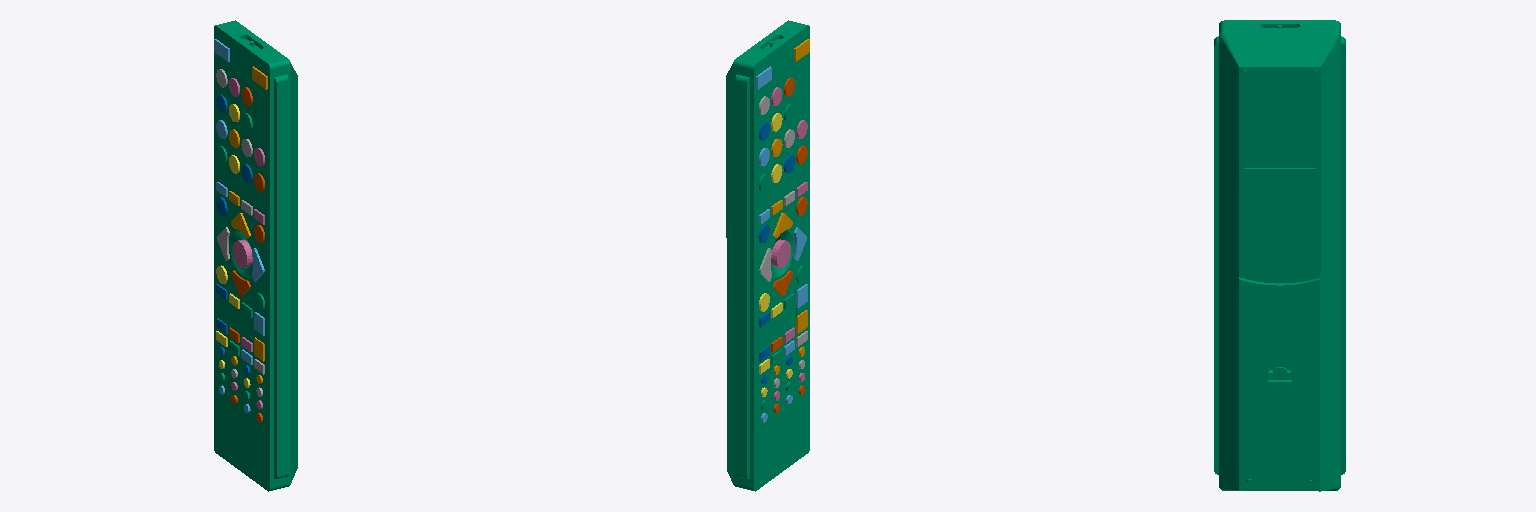
--- Render facts (derived) ---
3 views of the same robot in one strip: view 1: azimuth 30°, elevation 25°; view 2: azimuth 150°, elevation 25°; view 3: azimuth 270°, elevation 25° (orthographic).
Robot: partnet_61c6c6a47e5b9d34496c7671bf276db5 — 59 links, 58 joints (57 prismatic, 1 fixed); root link base; default pose: all joints at 0.
Links seen in each view (by area): view 1: link_57; view 2: link_57; view 3: link_57.
Boxes of the visible links, x1,y1,x2,y2 form: link_57: [214, 20, 297, 491]; link_57: [726, 20, 809, 491]; link_57: [1214, 20, 1345, 491].
Bounding box of the posed robot: 0.19 × 0.4939 × 1.9 m (x, y, z).
Meshes: 65 distinct files referenced, 65 mesh visuals loaded (65 OBJ).

robot.urdf — partnet_61c6c6a47e5b9d34496c7671bf276db5:
<?xml version="1.0" ?>
<robot name="partnet_61c6c6a47e5b9d34496c7671bf276db5">
	<link name="base"/>
	<link name="link_0">
		<visual name="button-1">
			<origin xyz="0 0 0"/>
			<geometry>
				<mesh filename="textured_objs/original-16.obj"/>
			</geometry>
		</visual>
		<collision>
			<origin xyz="0 0 0"/>
			<geometry>
				<mesh filename="textured_objs/original-16.obj"/>
			</geometry>
		</collision>
	</link>
	<joint name="joint_0" type="prismatic">
		<origin xyz="0 0 0"/>
		<axis xyz="0 0 -1"/>
		<child link="link_0"/>
		<parent link="link_57"/>
		<limit lower="0" upper="0.005"/>
	</joint>
	<link name="link_1">
		<visual name="button-2">
			<origin xyz="0 0 0"/>
			<geometry>
				<mesh filename="textured_objs/original-17.obj"/>
			</geometry>
		</visual>
		<collision>
			<origin xyz="0 0 0"/>
			<geometry>
				<mesh filename="textured_objs/original-17.obj"/>
			</geometry>
		</collision>
	</link>
	<joint name="joint_1" type="prismatic">
		<origin xyz="0 0 0"/>
		<axis xyz="0 0 -1"/>
		<child link="link_1"/>
		<parent link="link_57"/>
		<limit lower="0" upper="0.005"/>
	</joint>
	<link name="link_2">
		<visual name="button-3">
			<origin xyz="0 0 0"/>
			<geometry>
				<mesh filename="textured_objs/original-12.obj"/>
			</geometry>
		</visual>
		<collision>
			<origin xyz="0 0 0"/>
			<geometry>
				<mesh filename="textured_objs/original-12.obj"/>
			</geometry>
		</collision>
	</link>
	<joint name="joint_2" type="prismatic">
		<origin xyz="0 0 0"/>
		<axis xyz="0 0 -1"/>
		<child link="link_2"/>
		<parent link="link_57"/>
		<limit lower="0" upper="0.005"/>
	</joint>
	<link name="link_3">
		<visual name="button-4">
			<origin xyz="0 0 0"/>
			<geometry>
				<mesh filename="textured_objs/original-11.obj"/>
			</geometry>
		</visual>
		<collision>
			<origin xyz="0 0 0"/>
			<geometry>
				<mesh filename="textured_objs/original-11.obj"/>
			</geometry>
		</collision>
	</link>
	<joint name="joint_3" type="prismatic">
		<origin xyz="0 0 0"/>
		<axis xyz="0 0 -1"/>
		<child link="link_3"/>
		<parent link="link_57"/>
		<limit lower="0" upper="0.005"/>
	</joint>
	<link name="link_4">
		<visual name="button-5">
			<origin xyz="0 0 0"/>
			<geometry>
				<mesh filename="textured_objs/original-7.obj"/>
			</geometry>
		</visual>
		<collision>
			<origin xyz="0 0 0"/>
			<geometry>
				<mesh filename="textured_objs/original-7.obj"/>
			</geometry>
		</collision>
	</link>
	<joint name="joint_4" type="prismatic">
		<origin xyz="0 0 0"/>
		<axis xyz="0 0 -1"/>
		<child link="link_4"/>
		<parent link="link_57"/>
		<limit lower="0" upper="0.005"/>
	</joint>
	<link name="link_5">
		<visual name="button-6">
			<origin xyz="0 0 0"/>
			<geometry>
				<mesh filename="textured_objs/original-8.obj"/>
			</geometry>
		</visual>
		<collision>
			<origin xyz="0 0 0"/>
			<geometry>
				<mesh filename="textured_objs/original-8.obj"/>
			</geometry>
		</collision>
	</link>
	<joint name="joint_5" type="prismatic">
		<origin xyz="0 0 0"/>
		<axis xyz="0 0 -1"/>
		<child link="link_5"/>
		<parent link="link_57"/>
		<limit lower="0" upper="0.005"/>
	</joint>
	<link name="link_6">
		<visual name="button-7">
			<origin xyz="0 0 0"/>
			<geometry>
				<mesh filename="textured_objs/original-9.obj"/>
			</geometry>
		</visual>
		<collision>
			<origin xyz="0 0 0"/>
			<geometry>
				<mesh filename="textured_objs/original-9.obj"/>
			</geometry>
		</collision>
	</link>
	<joint name="joint_6" type="prismatic">
		<origin xyz="0 0 0"/>
		<axis xyz="0 0 -1"/>
		<child link="link_6"/>
		<parent link="link_57"/>
		<limit lower="0" upper="0.005"/>
	</joint>
	<link name="link_7">
		<visual name="button-8">
			<origin xyz="0 0 0"/>
			<geometry>
				<mesh filename="textured_objs/original-10.obj"/>
			</geometry>
		</visual>
		<collision>
			<origin xyz="0 0 0"/>
			<geometry>
				<mesh filename="textured_objs/original-10.obj"/>
			</geometry>
		</collision>
	</link>
	<joint name="joint_7" type="prismatic">
		<origin xyz="0 0 0"/>
		<axis xyz="0 0 -1"/>
		<child link="link_7"/>
		<parent link="link_57"/>
		<limit lower="0" upper="0.005"/>
	</joint>
	<link name="link_8">
		<visual name="button-9">
			<origin xyz="0 0 0"/>
			<geometry>
				<mesh filename="textured_objs/original-3.obj"/>
			</geometry>
		</visual>
		<collision>
			<origin xyz="0 0 0"/>
			<geometry>
				<mesh filename="textured_objs/original-3.obj"/>
			</geometry>
		</collision>
	</link>
	<joint name="joint_8" type="prismatic">
		<origin xyz="0 0 0"/>
		<axis xyz="0 0 -1"/>
		<child link="link_8"/>
		<parent link="link_57"/>
		<limit lower="0" upper="0.005"/>
	</joint>
	<link name="link_9">
		<visual name="button-10">
			<origin xyz="0 0 0"/>
			<geometry>
				<mesh filename="textured_objs/original-4.obj"/>
			</geometry>
		</visual>
		<collision>
			<origin xyz="0 0 0"/>
			<geometry>
				<mesh filename="textured_objs/original-4.obj"/>
			</geometry>
		</collision>
	</link>
	<joint name="joint_9" type="prismatic">
		<origin xyz="0 0 0"/>
		<axis xyz="0 0 -1"/>
		<child link="link_9"/>
		<parent link="link_57"/>
		<limit lower="0" upper="0.005"/>
	</joint>
	<link name="link_10">
		<visual name="button-11">
			<origin xyz="0 0 0"/>
			<geometry>
				<mesh filename="textured_objs/original-5.obj"/>
			</geometry>
		</visual>
		<collision>
			<origin xyz="0 0 0"/>
			<geometry>
				<mesh filename="textured_objs/original-5.obj"/>
			</geometry>
		</collision>
	</link>
	<joint name="joint_10" type="prismatic">
		<origin xyz="0 0 0"/>
		<axis xyz="0 0 -1"/>
		<child link="link_10"/>
		<parent link="link_57"/>
		<limit lower="0" upper="0.005"/>
	</joint>
	<link name="link_11">
		<visual name="button-12">
			<origin xyz="0 0 0"/>
			<geometry>
				<mesh filename="textured_objs/original-6.obj"/>
			</geometry>
		</visual>
		<collision>
			<origin xyz="0 0 0"/>
			<geometry>
				<mesh filename="textured_objs/original-6.obj"/>
			</geometry>
		</collision>
	</link>
	<joint name="joint_11" type="prismatic">
		<origin xyz="0 0 0"/>
		<axis xyz="0 0 -1"/>
		<child link="link_11"/>
		<parent link="link_57"/>
		<limit lower="0" upper="0.005"/>
	</joint>
	<link name="link_12">
		<visual name="button-13">
			<origin xyz="0 0 0"/>
			<geometry>
				<mesh filename="textured_objs/original-18.obj"/>
			</geometry>
		</visual>
		<collision>
			<origin xyz="0 0 0"/>
			<geometry>
				<mesh filename="textured_objs/original-18.obj"/>
			</geometry>
		</collision>
	</link>
	<joint name="joint_12" type="prismatic">
		<origin xyz="0 0 0"/>
		<axis xyz="0 0 -1"/>
		<child link="link_12"/>
		<parent link="link_57"/>
		<limit lower="0" upper="0.005"/>
	</joint>
	<link name="link_13">
		<visual name="button-14">
			<origin xyz="0 0 0"/>
			<geometry>
				<mesh filename="textured_objs/original-19.obj"/>
			</geometry>
		</visual>
		<collision>
			<origin xyz="0 0 0"/>
			<geometry>
				<mesh filename="textured_objs/original-19.obj"/>
			</geometry>
		</collision>
	</link>
	<joint name="joint_13" type="prismatic">
		<origin xyz="0 0 0"/>
		<axis xyz="0 0 -1"/>
		<child link="link_13"/>
		<parent link="link_57"/>
		<limit lower="0" upper="0.005"/>
	</joint>
	<link name="link_14">
		<visual name="button-15">
			<origin xyz="0 0 0"/>
			<geometry>
				<mesh filename="textured_objs/original-20.obj"/>
			</geometry>
		</visual>
		<collision>
			<origin xyz="0 0 0"/>
			<geometry>
				<mesh filename="textured_objs/original-20.obj"/>
			</geometry>
		</collision>
	</link>
	<joint name="joint_14" type="prismatic">
		<origin xyz="0 0 0"/>
		<axis xyz="0 0 -1"/>
		<child link="link_14"/>
		<parent link="link_57"/>
		<limit lower="0" upper="0.005"/>
	</joint>
	<link name="link_15">
		<visual name="button-16">
			<origin xyz="0 0 0"/>
			<geometry>
				<mesh filename="textured_objs/original-21.obj"/>
			</geometry>
		</visual>
		<collision>
			<origin xyz="0 0 0"/>
			<geometry>
				<mesh filename="textured_objs/original-21.obj"/>
			</geometry>
		</collision>
	</link>
	<joint name="joint_15" type="prismatic">
		<origin xyz="0 0 0"/>
		<axis xyz="0 0 -1"/>
		<child link="link_15"/>
		<parent link="link_57"/>
		<limit lower="0" upper="0.005"/>
	</joint>
	<link name="link_16">
		<visual name="button-17">
			<origin xyz="0 0 0"/>
			<geometry>
				<mesh filename="textured_objs/original-42.obj"/>
			</geometry>
		</visual>
		<collision>
			<origin xyz="0 0 0"/>
			<geometry>
				<mesh filename="textured_objs/original-42.obj"/>
			</geometry>
		</collision>
	</link>
	<joint name="joint_16" type="prismatic">
		<origin xyz="0 0 0"/>
		<axis xyz="0 0 -1"/>
		<child link="link_16"/>
		<parent link="link_57"/>
		<limit lower="0" upper="0.005"/>
	</joint>
	<link name="link_17">
		<visual name="button-18">
			<origin xyz="0 0 0"/>
			<geometry>
				<mesh filename="textured_objs/original-36.obj"/>
			</geometry>
		</visual>
		<collision>
			<origin xyz="0 0 0"/>
			<geometry>
				<mesh filename="textured_objs/original-36.obj"/>
			</geometry>
		</collision>
	</link>
	<joint name="joint_17" type="prismatic">
		<origin xyz="0 0 0"/>
		<axis xyz="0 0 -1"/>
		<child link="link_17"/>
		<parent link="link_57"/>
		<limit lower="0" upper="0.005"/>
	</joint>
	<link name="link_18">
		<visual name="button-19">
			<origin xyz="0 0 0"/>
			<geometry>
				<mesh filename="textured_objs/original-32.obj"/>
			</geometry>
		</visual>
		<collision>
			<origin xyz="0 0 0"/>
			<geometry>
				<mesh filename="textured_objs/original-32.obj"/>
			</geometry>
		</collision>
	</link>
	<joint name="joint_18" type="prismatic">
		<origin xyz="0 0 0"/>
		<axis xyz="0 0 -1"/>
		<child link="link_18"/>
		<parent link="link_57"/>
		<limit lower="0" upper="0.005"/>
	</joint>
	<link name="link_19">
		<visual name="button-20">
			<origin xyz="0 0 0"/>
			<geometry>
				<mesh filename="textured_objs/original-33.obj"/>
			</geometry>
		</visual>
		<collision>
			<origin xyz="0 0 0"/>
			<geometry>
				<mesh filename="textured_objs/original-33.obj"/>
			</geometry>
		</collision>
	</link>
	<joint name="joint_19" type="prismatic">
		<origin xyz="0 0 0"/>
		<axis xyz="0 0 -1"/>
		<child link="link_19"/>
		<parent link="link_57"/>
		<limit lower="0" upper="0.005"/>
	</joint>
	<link name="link_20">
		<visual name="button-21">
			<origin xyz="0 0 0"/>
			<geometry>
				<mesh filename="textured_objs/original-37.obj"/>
			</geometry>
		</visual>
		<collision>
			<origin xyz="0 0 0"/>
			<geometry>
				<mesh filename="textured_objs/original-37.obj"/>
			</geometry>
		</collision>
	</link>
	<joint name="joint_20" type="prismatic">
		<origin xyz="0 0 0"/>
		<axis xyz="0 0 -1"/>
		<child link="link_20"/>
		<parent link="link_57"/>
		<limit lower="0" upper="0.005"/>
	</joint>
	<link name="link_21">
		<visual name="button-22">
			<origin xyz="0 0 0"/>
			<geometry>
				<mesh filename="textured_objs/original-41.obj"/>
			</geometry>
		</visual>
		<collision>
			<origin xyz="0 0 0"/>
			<geometry>
				<mesh filename="textured_objs/original-41.obj"/>
			</geometry>
		</collision>
	</link>
	<joint name="joint_21" type="prismatic">
		<origin xyz="0 0 0"/>
		<axis xyz="0 0 -1"/>
		<child link="link_21"/>
		<parent link="link_57"/>
		<limit lower="0" upper="0.005"/>
	</joint>
	<link name="link_22">
		<visual name="button-23">
			<origin xyz="0 0 0"/>
			<geometry>
				<mesh filename="textured_objs/original-50.obj"/>
			</geometry>
		</visual>
		<collision>
			<origin xyz="0 0 0"/>
			<geometry>
				<mesh filename="textured_objs/original-50.obj"/>
			</geometry>
		</collision>
	</link>
	<joint name="joint_22" type="prismatic">
		<origin xyz="0 0 0"/>
		<axis xyz="0 0 -1"/>
		<child link="link_22"/>
		<parent link="link_57"/>
		<limit lower="0" upper="0.005"/>
	</joint>
	<link name="link_23">
		<visual name="button-24">
			<origin xyz="0 0 0"/>
			<geometry>
				<mesh filename="textured_objs/original-51.obj"/>
			</geometry>
		</visual>
		<collision>
			<origin xyz="0 0 0"/>
			<geometry>
				<mesh filename="textured_objs/original-51.obj"/>
			</geometry>
		</collision>
	</link>
	<joint name="joint_23" type="prismatic">
		<origin xyz="0 0 0"/>
		<axis xyz="0 0 -1"/>
		<child link="link_23"/>
		<parent link="link_57"/>
		<limit lower="0" upper="0.005"/>
	</joint>
	<link name="link_24">
		<visual name="button-25">
			<origin xyz="0 0 0"/>
			<geometry>
				<mesh filename="textured_objs/original-52.obj"/>
			</geometry>
		</visual>
		<collision>
			<origin xyz="0 0 0"/>
			<geometry>
				<mesh filename="textured_objs/original-52.obj"/>
			</geometry>
		</collision>
	</link>
	<joint name="joint_24" type="prismatic">
		<origin xyz="0 0 0"/>
		<axis xyz="0 0 -1"/>
		<child link="link_24"/>
		<parent link="link_57"/>
		<limit lower="0" upper="0.005"/>
	</joint>
	<link name="link_25">
		<visual name="button-26">
			<origin xyz="0 0 0"/>
			<geometry>
				<mesh filename="textured_objs/original-40.obj"/>
			</geometry>
		</visual>
		<collision>
			<origin xyz="0 0 0"/>
			<geometry>
				<mesh filename="textured_objs/original-40.obj"/>
			</geometry>
		</collision>
	</link>
	<joint name="joint_25" type="prismatic">
		<origin xyz="0 0 0"/>
		<axis xyz="0 0 -1"/>
		<child link="link_25"/>
		<parent link="link_57"/>
		<limit lower="0" upper="0.005"/>
	</joint>
	<link name="link_26">
		<visual name="button-27">
			<origin xyz="0 0 0"/>
			<geometry>
				<mesh filename="textured_objs/original-38.obj"/>
			</geometry>
		</visual>
		<collision>
			<origin xyz="0 0 0"/>
			<geometry>
				<mesh filename="textured_objs/original-38.obj"/>
			</geometry>
		</collision>
	</link>
	<joint name="joint_26" type="prismatic">
		<origin xyz="0 0 0"/>
		<axis xyz="0 0 -1"/>
		<child link="link_26"/>
		<parent link="link_57"/>
		<limit lower="0" upper="0.005"/>
	</joint>
	<link name="link_27">
		<visual name="button-28">
			<origin xyz="0 0 0"/>
			<geometry>
				<mesh filename="textured_objs/original-34.obj"/>
			</geometry>
		</visual>
		<collision>
			<origin xyz="0 0 0"/>
			<geometry>
				<mesh filename="textured_objs/original-34.obj"/>
			</geometry>
		</collision>
	</link>
	<joint name="joint_27" type="prismatic">
		<origin xyz="0 0 0"/>
		<axis xyz="0 0 -1"/>
		<child link="link_27"/>
		<parent link="link_57"/>
		<limit lower="0" upper="0.005"/>
	</joint>
	<link name="link_28">
		<visual name="button-29">
			<origin xyz="0 0 0"/>
			<geometry>
				<mesh filename="textured_objs/original-39.obj"/>
			</geometry>
		</visual>
		<collision>
			<origin xyz="0 0 0"/>
			<geometry>
				<mesh filename="textured_objs/original-39.obj"/>
			</geometry>
		</collision>
	</link>
	<joint name="joint_28" type="prismatic">
		<origin xyz="0 0 0"/>
		<axis xyz="0 0 -1"/>
		<child link="link_28"/>
		<parent link="link_57"/>
		<limit lower="0" upper="0.005"/>
	</joint>
	<link name="link_29">
		<visual name="button-30">
			<origin xyz="0 0 0"/>
			<geometry>
				<mesh filename="textured_objs/original-28.obj"/>
			</geometry>
		</visual>
		<collision>
			<origin xyz="0 0 0"/>
			<geometry>
				<mesh filename="textured_objs/original-28.obj"/>
			</geometry>
		</collision>
	</link>
	<joint name="joint_29" type="prismatic">
		<origin xyz="0 0 0"/>
		<axis xyz="0 0 -1"/>
		<child link="link_29"/>
		<parent link="link_57"/>
		<limit lower="0" upper="0.005"/>
	</joint>
	<link name="link_30">
		<visual name="button-31">
			<origin xyz="0 0 0"/>
			<geometry>
				<mesh filename="textured_objs/original-29.obj"/>
			</geometry>
		</visual>
		<collision>
			<origin xyz="0 0 0"/>
			<geometry>
				<mesh filename="textured_objs/original-29.obj"/>
			</geometry>
		</collision>
	</link>
	<joint name="joint_30" type="prismatic">
		<origin xyz="0 0 0"/>
		<axis xyz="0 0 -1"/>
		<child link="link_30"/>
		<parent link="link_57"/>
		<limit lower="0" upper="0.005"/>
	</joint>
	<link name="link_31">
		<visual name="button-32">
			<origin xyz="0 0 0"/>
			<geometry>
				<mesh filename="textured_objs/original-49.obj"/>
			</geometry>
		</visual>
		<collision>
			<origin xyz="0 0 0"/>
			<geometry>
				<mesh filename="textured_objs/original-49.obj"/>
			</geometry>
		</collision>
	</link>
	<joint name="joint_31" type="prismatic">
		<origin xyz="0 0 0"/>
		<axis xyz="0 0 -1"/>
		<child link="link_31"/>
		<parent link="link_57"/>
		<limit lower="0" upper="0.005"/>
	</joint>
	<link name="link_32">
		<visual name="button-33">
			<origin xyz="0 0 0"/>
			<geometry>
				<mesh filename="textured_objs/original-31.obj"/>
			</geometry>
		</visual>
		<collision>
			<origin xyz="0 0 0"/>
			<geometry>
				<mesh filename="textured_objs/original-31.obj"/>
			</geometry>
		</collision>
	</link>
	<joint name="joint_32" type="prismatic">
		<origin xyz="0 0 0"/>
		<axis xyz="0 0 -1"/>
		<child link="link_32"/>
		<parent link="link_57"/>
		<limit lower="0" upper="0.005"/>
	</joint>
	<link name="link_33">
		<visual name="button-34">
			<origin xyz="0 0 0"/>
			<geometry>
				<mesh filename="textured_objs/original-53.obj"/>
			</geometry>
		</visual>
		<collision>
			<origin xyz="0 0 0"/>
			<geometry>
				<mesh filename="textured_objs/original-53.obj"/>
			</geometry>
		</collision>
	</link>
	<joint name="joint_33" type="prismatic">
		<origin xyz="0 0 0"/>
		<axis xyz="0 0 -1"/>
		<child link="link_33"/>
		<parent link="link_57"/>
		<limit lower="0" upper="0.005"/>
	</joint>
	<link name="link_34">
		<visual name="button-35">
			<origin xyz="0 0 0"/>
			<geometry>
				<mesh filename="textured_objs/original-35.obj"/>
			</geometry>
		</visual>
		<collision>
			<origin xyz="0 0 0"/>
			<geometry>
				<mesh filename="textured_objs/original-35.obj"/>
			</geometry>
		</collision>
	</link>
	<joint name="joint_34" type="prismatic">
		<origin xyz="0 0 0"/>
		<axis xyz="0 0 -1"/>
		<child link="link_34"/>
		<parent link="link_57"/>
		<limit lower="0" upper="0.005"/>
	</joint>
	<link name="link_35">
		<visual name="button-36">
			<origin xyz="0 0 0"/>
			<geometry>
				<mesh filename="textured_objs/original-55.obj"/>
			</geometry>
		</visual>
		<collision>
			<origin xyz="0 0 0"/>
			<geometry>
				<mesh filename="textured_objs/original-55.obj"/>
			</geometry>
		</collision>
	</link>
	<joint name="joint_35" type="prismatic">
		<origin xyz="0 0 0"/>
		<axis xyz="0 0 -1"/>
		<child link="link_35"/>
		<parent link="link_57"/>
		<limit lower="0" upper="0.005"/>
	</joint>
	<link name="link_36">
		<visual name="button-37">
			<origin xyz="0 0 0"/>
			<geometry>
				<mesh filename="textured_objs/original-30.obj"/>
			</geometry>
		</visual>
		<collision>
			<origin xyz="0 0 0"/>
			<geometry>
				<mesh filename="textured_objs/original-30.obj"/>
			</geometry>
		</collision>
	</link>
	<joint name="joint_36" type="prismatic">
		<origin xyz="0 0 0"/>
		<axis xyz="0 0 -1"/>
		<child link="link_36"/>
		<parent link="link_57"/>
		<limit lower="0" upper="0.005"/>
	</joint>
	<link name="link_37">
		<visual name="button-38">
			<origin xyz="0 0 0"/>
			<geometry>
				<mesh filename="textured_objs/original-22.obj"/>
			</geometry>
		</visual>
		<collision>
			<origin xyz="0 0 0"/>
			<geometry>
				<mesh filename="textured_objs/original-22.obj"/>
			</geometry>
		</collision>
	</link>
	<joint name="joint_37" type="prismatic">
		<origin xyz="0 0 0"/>
		<axis xyz="0 0 -1"/>
		<child link="link_37"/>
		<parent link="link_57"/>
		<limit lower="0" upper="0.005"/>
	</joint>
	<link name="link_38">
		<visual name="button-39">
			<origin xyz="0 0 0"/>
			<geometry>
				<mesh filename="textured_objs/original-14.obj"/>
			</geometry>
		</visual>
		<collision>
			<origin xyz="0 0 0"/>
			<geometry>
				<mesh filename="textured_objs/original-14.obj"/>
			</geometry>
		</collision>
	</link>
	<joint name="joint_38" type="prismatic">
		<origin xyz="0 0 0"/>
		<axis xyz="0 0 -1"/>
		<child link="link_38"/>
		<parent link="link_57"/>
		<limit lower="0" upper="0.005"/>
	</joint>
	<link name="link_39">
		<visual name="button-40">
			<origin xyz="0 0 0"/>
			<geometry>
				<mesh filename="textured_objs/original-15.obj"/>
			</geometry>
		</visual>
		<collision>
			<origin xyz="0 0 0"/>
			<geometry>
				<mesh filename="textured_objs/original-15.obj"/>
			</geometry>
		</collision>
	</link>
	<joint name="joint_39" type="prismatic">
		<origin xyz="0 0 0"/>
		<axis xyz="0 0 -1"/>
		<child link="link_39"/>
		<parent link="link_57"/>
		<limit lower="0" upper="0.005"/>
	</joint>
	<link name="link_40">
		<visual name="button-41">
			<origin xyz="0 0 0"/>
			<geometry>
				<mesh filename="textured_objs/original-25.obj"/>
			</geometry>
		</visual>
		<collision>
			<origin xyz="0 0 0"/>
			<geometry>
				<mesh filename="textured_objs/original-25.obj"/>
			</geometry>
		</collision>
	</link>
	<joint name="joint_40" type="prismatic">
		<origin xyz="0 0 0"/>
		<axis xyz="0 0 -1"/>
		<child link="link_40"/>
		<parent link="link_57"/>
		<limit lower="0" upper="0.005"/>
	</joint>
	<link name="link_41">
		<visual name="button-42">
			<origin xyz="0 0 0"/>
			<geometry>
				<mesh filename="textured_objs/original-57.obj"/>
			</geometry>
		</visual>
		<collision>
			<origin xyz="0 0 0"/>
			<geometry>
				<mesh filename="textured_objs/original-57.obj"/>
			</geometry>
		</collision>
	</link>
	<joint name="joint_41" type="prismatic">
		<origin xyz="0 0 0"/>
		<axis xyz="0 0 -1"/>
		<child link="link_41"/>
		<parent link="link_57"/>
		<limit lower="0" upper="0.005"/>
	</joint>
	<link name="link_42">
		<visual name="button-43">
			<origin xyz="0 0 0"/>
			<geometry>
				<mesh filename="textured_objs/original-46.obj"/>
			</geometry>
		</visual>
		<collision>
			<origin xyz="0 0 0"/>
			<geometry>
				<mesh filename="textured_objs/original-46.obj"/>
			</geometry>
		</collision>
	</link>
	<joint name="joint_42" type="prismatic">
		<origin xyz="0 0 0"/>
		<axis xyz="0 0 -1"/>
		<child link="link_42"/>
		<parent link="link_57"/>
		<limit lower="0" upper="0.005"/>
	</joint>
	<link name="link_43">
		<visual name="button-44">
			<origin xyz="0 0 0"/>
			<geometry>
				<mesh filename="textured_objs/original-45.obj"/>
			</geometry>
		</visual>
		<collision>
			<origin xyz="0 0 0"/>
			<geometry>
				<mesh filename="textured_objs/original-45.obj"/>
			</geometry>
		</collision>
	</link>
	<joint name="joint_43" type="prismatic">
		<origin xyz="0 0 0"/>
		<axis xyz="0 0 -1"/>
		<child link="link_43"/>
		<parent link="link_57"/>
		<limit lower="0" upper="0.005"/>
	</joint>
	<link name="link_44">
		<visual name="button-45">
			<origin xyz="0 0 0"/>
			<geometry>
				<mesh filename="textured_objs/original-54.obj"/>
			</geometry>
		</visual>
		<collision>
			<origin xyz="0 0 0"/>
			<geometry>
				<mesh filename="textured_objs/original-54.obj"/>
			</geometry>
		</collision>
	</link>
	<joint name="joint_44" type="prismatic">
		<origin xyz="0 0 0"/>
		<axis xyz="0 0 -1"/>
		<child link="link_44"/>
		<parent link="link_57"/>
		<limit lower="0" upper="0.005"/>
	</joint>
	<link name="link_45">
		<visual name="button-46">
			<origin xyz="0 0 0"/>
			<geometry>
				<mesh filename="textured_objs/original-23.obj"/>
			</geometry>
		</visual>
		<collision>
			<origin xyz="0 0 0"/>
			<geometry>
				<mesh filename="textured_objs/original-23.obj"/>
			</geometry>
		</collision>
	</link>
	<joint name="joint_45" type="prismatic">
		<origin xyz="0 0 0"/>
		<axis xyz="0 0 -1"/>
		<child link="link_45"/>
		<parent link="link_57"/>
		<limit lower="0" upper="0.005"/>
	</joint>
	<link name="link_46">
		<visual name="button-47">
			<origin xyz="0 0 0"/>
			<geometry>
				<mesh filename="textured_objs/original-44.obj"/>
			</geometry>
		</visual>
		<collision>
			<origin xyz="0 0 0"/>
			<geometry>
				<mesh filename="textured_objs/original-44.obj"/>
			</geometry>
		</collision>
	</link>
	<joint name="joint_46" type="prismatic">
		<origin xyz="0 0 0"/>
		<axis xyz="0 0 -1"/>
		<child link="link_46"/>
		<parent link="link_57"/>
		<limit lower="0" upper="0.005"/>
	</joint>
	<link name="link_47">
		<visual name="button-48">
			<origin xyz="0 0 0"/>
			<geometry>
				<mesh filename="textured_objs/original-47.obj"/>
			</geometry>
		</visual>
		<collision>
			<origin xyz="0 0 0"/>
			<geometry>
				<mesh filename="textured_objs/original-47.obj"/>
			</geometry>
		</collision>
	</link>
	<joint name="joint_47" type="prismatic">
		<origin xyz="0 0 0"/>
		<axis xyz="0 0 -1"/>
		<child link="link_47"/>
		<parent link="link_57"/>
		<limit lower="0" upper="0.005"/>
	</joint>
	<link name="link_48">
		<visual name="button-49">
			<origin xyz="0 0 0"/>
			<geometry>
				<mesh filename="textured_objs/original-58.obj"/>
			</geometry>
		</visual>
		<collision>
			<origin xyz="0 0 0"/>
			<geometry>
				<mesh filename="textured_objs/original-58.obj"/>
			</geometry>
		</collision>
	</link>
	<joint name="joint_48" type="prismatic">
		<origin xyz="0 0 0"/>
		<axis xyz="0 0 -1"/>
		<child link="link_48"/>
		<parent link="link_57"/>
		<limit lower="0" upper="0.005"/>
	</joint>
	<link name="link_49">
		<visual name="button-50">
			<origin xyz="0 0 0"/>
			<geometry>
				<mesh filename="textured_objs/original-43.obj"/>
			</geometry>
		</visual>
		<collision>
			<origin xyz="0 0 0"/>
			<geometry>
				<mesh filename="textured_objs/original-43.obj"/>
			</geometry>
		</collision>
	</link>
	<joint name="joint_49" type="prismatic">
		<origin xyz="0 0 0"/>
		<axis xyz="0 0 -1"/>
		<child link="link_49"/>
		<parent link="link_57"/>
		<limit lower="0" upper="0.005"/>
	</joint>
	<link name="link_50">
		<visual name="button-51">
			<origin xyz="0 0 0"/>
			<geometry>
				<mesh filename="textured_objs/original-48.obj"/>
			</geometry>
		</visual>
		<collision>
			<origin xyz="0 0 0"/>
			<geometry>
				<mesh filename="textured_objs/original-48.obj"/>
			</geometry>
		</collision>
	</link>
	<joint name="joint_50" type="prismatic">
		<origin xyz="0 0 0"/>
		<axis xyz="0 0 -1"/>
		<child link="link_50"/>
		<parent link="link_57"/>
		<limit lower="0" upper="0.005"/>
	</joint>
	<link name="link_51">
		<visual name="button-52">
			<origin xyz="0 0 0"/>
			<geometry>
				<mesh filename="textured_objs/original-56.obj"/>
			</geometry>
		</visual>
		<collision>
			<origin xyz="0 0 0"/>
			<geometry>
				<mesh filename="textured_objs/original-56.obj"/>
			</geometry>
		</collision>
	</link>
	<joint name="joint_51" type="prismatic">
		<origin xyz="0 0 0"/>
		<axis xyz="0 0 -1"/>
		<child link="link_51"/>
		<parent link="link_57"/>
		<limit lower="0" upper="0.005"/>
	</joint>
	<link name="link_52">
		<visual name="button-53">
			<origin xyz="0 0 0"/>
			<geometry>
				<mesh filename="textured_objs/original-13.obj"/>
			</geometry>
		</visual>
		<collision>
			<origin xyz="0 0 0"/>
			<geometry>
				<mesh filename="textured_objs/original-13.obj"/>
			</geometry>
		</collision>
	</link>
	<joint name="joint_52" type="prismatic">
		<origin xyz="0 0 0"/>
		<axis xyz="0 0 -1"/>
		<child link="link_52"/>
		<parent link="link_57"/>
		<limit lower="0" upper="0.005"/>
	</joint>
	<link name="link_53">
		<visual name="button-54">
			<origin xyz="0 0 0"/>
			<geometry>
				<mesh filename="textured_objs/original-2.obj"/>
			</geometry>
		</visual>
		<collision>
			<origin xyz="0 0 0"/>
			<geometry>
				<mesh filename="textured_objs/original-2.obj"/>
			</geometry>
		</collision>
	</link>
	<joint name="joint_53" type="prismatic">
		<origin xyz="0 0 0"/>
		<axis xyz="0 0 -1"/>
		<child link="link_53"/>
		<parent link="link_57"/>
		<limit lower="0" upper="0.005"/>
	</joint>
	<link name="link_54">
		<visual name="button-55">
			<origin xyz="0 0 0"/>
			<geometry>
				<mesh filename="textured_objs/original-24.obj"/>
			</geometry>
		</visual>
		<collision>
			<origin xyz="0 0 0"/>
			<geometry>
				<mesh filename="textured_objs/original-24.obj"/>
			</geometry>
		</collision>
	</link>
	<joint name="joint_54" type="prismatic">
		<origin xyz="0 0 0"/>
		<axis xyz="0 0 -1"/>
		<child link="link_54"/>
		<parent link="link_57"/>
		<limit lower="0" upper="0.005"/>
	</joint>
	<link name="link_55">
		<visual name="button-56">
			<origin xyz="0 0 0"/>
			<geometry>
				<mesh filename="textured_objs/original-1.obj"/>
			</geometry>
		</visual>
		<collision>
			<origin xyz="0 0 0"/>
			<geometry>
				<mesh filename="textured_objs/original-1.obj"/>
			</geometry>
		</collision>
	</link>
	<joint name="joint_55" type="prismatic">
		<origin xyz="0 0 0"/>
		<axis xyz="0 0 -1"/>
		<child link="link_55"/>
		<parent link="link_57"/>
		<limit lower="0" upper="0.005"/>
	</joint>
	<link name="link_56">
		<visual name="button-57">
			<origin xyz="0 0 0"/>
			<geometry>
				<mesh filename="textured_objs/original-64.obj"/>
			</geometry>
		</visual>
		<collision>
			<origin xyz="0 0 0"/>
			<geometry>
				<mesh filename="textured_objs/original-64.obj"/>
			</geometry>
		</collision>
	</link>
	<joint name="joint_56" type="prismatic">
		<origin xyz="0 0 0"/>
		<axis xyz="0 0 -1"/>
		<child link="link_56"/>
		<parent link="link_57"/>
		<limit lower="0" upper="0.005"/>
	</joint>
	<link name="link_57">
		<visual name="base_body-59">
			<origin xyz="0 0 0"/>
			<geometry>
				<mesh filename="textured_objs/original-26.obj"/>
			</geometry>
		</visual>
		<visual name="base_body-59">
			<origin xyz="0 0 0"/>
			<geometry>
				<mesh filename="textured_objs/original-61.obj"/>
			</geometry>
		</visual>
		<visual name="base_body-59">
			<origin xyz="0 0 0"/>
			<geometry>
				<mesh filename="textured_objs/original-59.obj"/>
			</geometry>
		</visual>
		<visual name="base_body-59">
			<origin xyz="0 0 0"/>
			<geometry>
				<mesh filename="textured_objs/original-63.obj"/>
			</geometry>
		</visual>
		<visual name="base_body-59">
			<origin xyz="0 0 0"/>
			<geometry>
				<mesh filename="textured_objs/original-27.obj"/>
			</geometry>
		</visual>
		<visual name="base_body-59">
			<origin xyz="0 0 0"/>
			<geometry>
				<mesh filename="textured_objs/original-62.obj"/>
			</geometry>
		</visual>
		<visual name="base_body-59">
			<origin xyz="0 0 0"/>
			<geometry>
				<mesh filename="textured_objs/original-60.obj"/>
			</geometry>
		</visual>
		<visual name="button-58">
			<origin xyz="0 0 0"/>
			<geometry>
				<mesh filename="textured_objs/original-65.obj"/>
			</geometry>
		</visual>
		<collision>
			<origin xyz="0 0 0"/>
			<geometry>
				<mesh filename="textured_objs/original-26.obj"/>
			</geometry>
		</collision>
		<collision>
			<origin xyz="0 0 0"/>
			<geometry>
				<mesh filename="textured_objs/original-61.obj"/>
			</geometry>
		</collision>
		<collision>
			<origin xyz="0 0 0"/>
			<geometry>
				<mesh filename="textured_objs/original-59.obj"/>
			</geometry>
		</collision>
		<collision>
			<origin xyz="0 0 0"/>
			<geometry>
				<mesh filename="textured_objs/original-63.obj"/>
			</geometry>
		</collision>
		<collision>
			<origin xyz="0 0 0"/>
			<geometry>
				<mesh filename="textured_objs/original-27.obj"/>
			</geometry>
		</collision>
		<collision>
			<origin xyz="0 0 0"/>
			<geometry>
				<mesh filename="textured_objs/original-62.obj"/>
			</geometry>
		</collision>
		<collision>
			<origin xyz="0 0 0"/>
			<geometry>
				<mesh filename="textured_objs/original-60.obj"/>
			</geometry>
		</collision>
		<collision>
			<origin xyz="0 0 0"/>
			<geometry>
				<mesh filename="textured_objs/original-65.obj"/>
			</geometry>
		</collision>
	</link>
	<joint name="joint_57" type="fixed">
		<origin rpy="1.570796326794897 0 -1.570796326794897" xyz="0 0 0"/>
		<child link="link_57"/>
		<parent link="base"/>
	</joint>
</robot>
